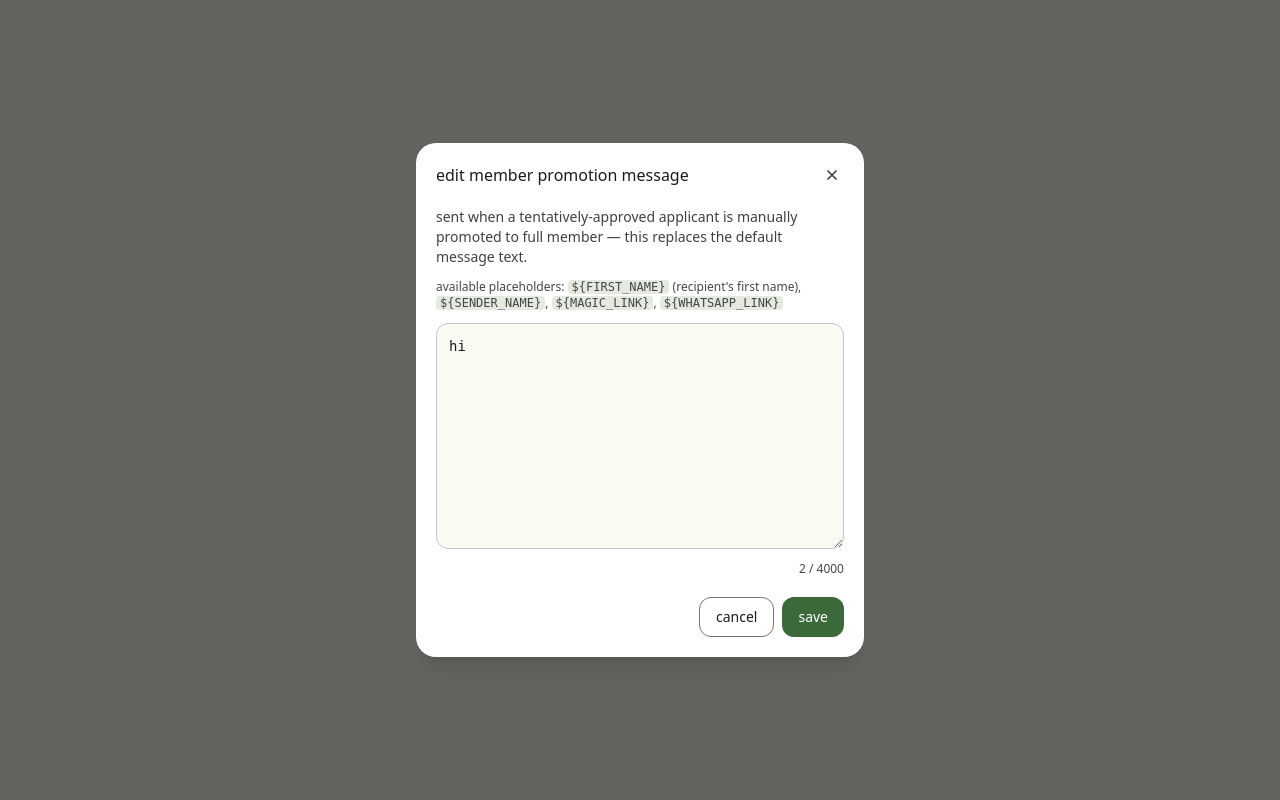
Test: MemberPromotionMessageEditorDialog › shows the FE-rendered too-long error from a structured 422
What coordinates should you click on to do the following:
click the button "save"
I would click on:
 (813, 617)
Its box is [782,597,844,637].
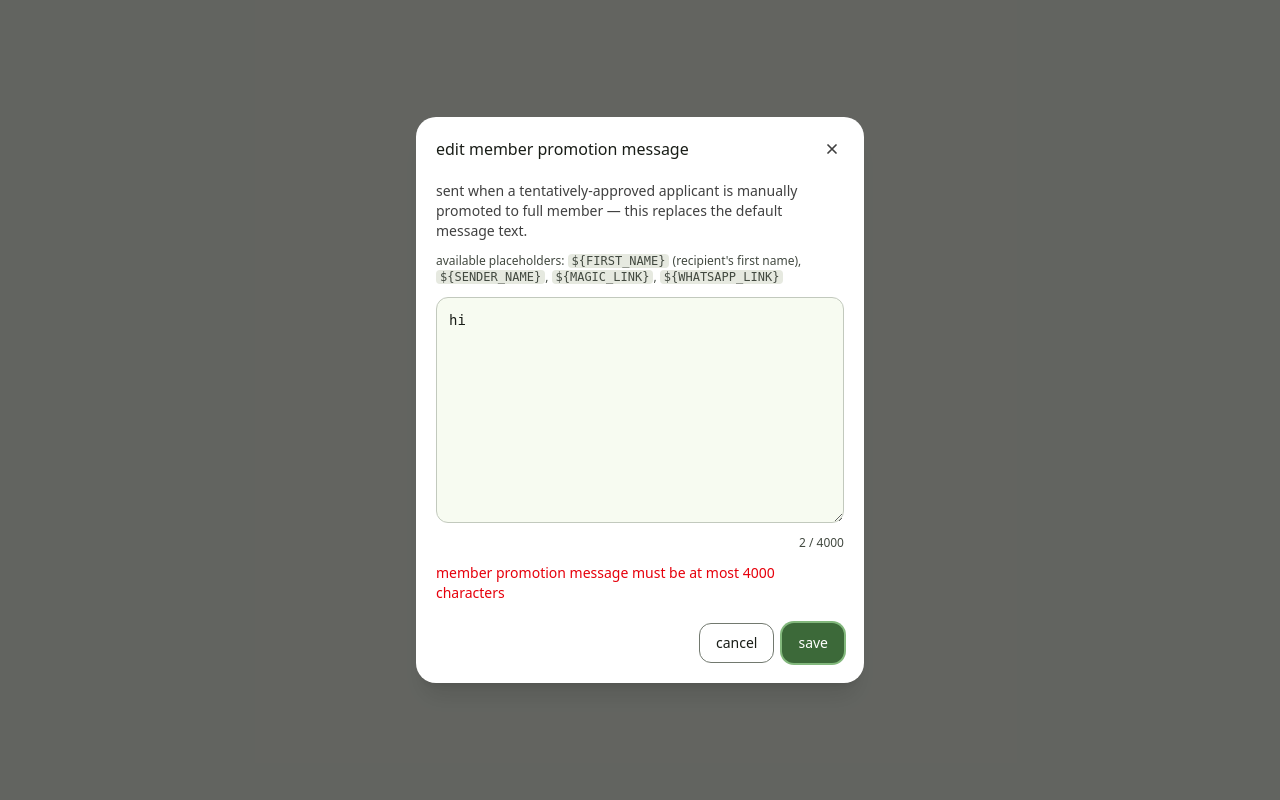
Expected: the message reads "member promotion message must be at most 4000 characters", [436,563,775,602]
